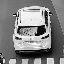motor: (15, 9, 51, 58)
